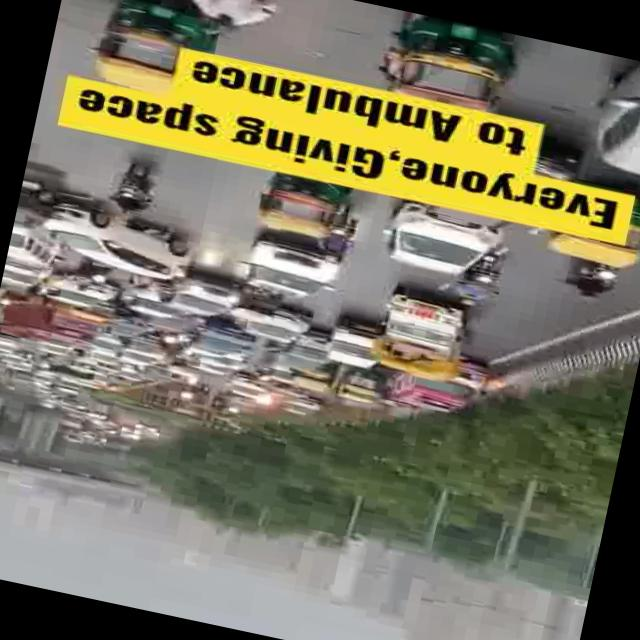ambulance: (392, 363, 495, 422)
